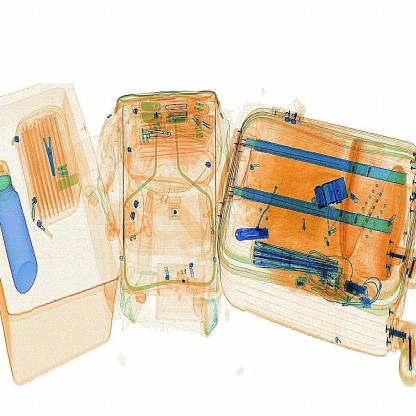knife: (231, 214, 280, 249)
